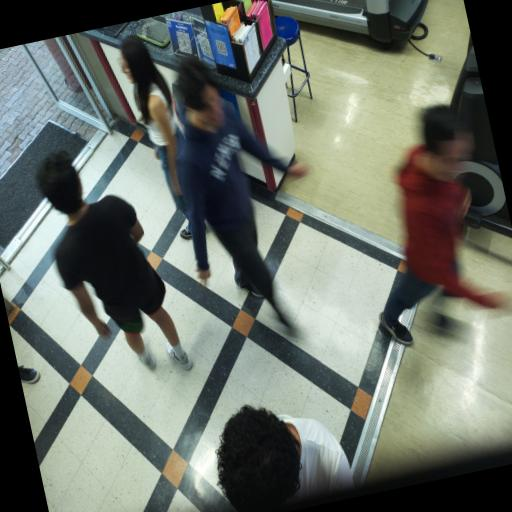person: (178, 58, 307, 325), (37, 151, 192, 368), (380, 106, 502, 344), (217, 406, 354, 511), (121, 35, 188, 217), (18, 366, 40, 383)
